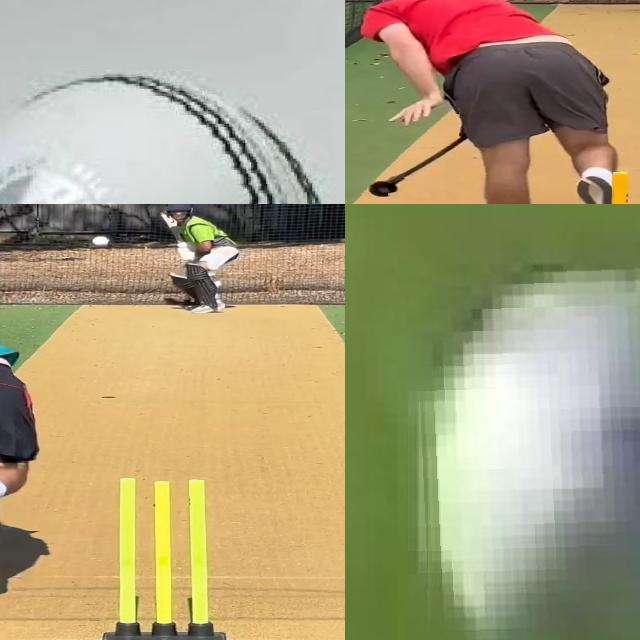Cricket ball: (414, 265, 640, 640), (0, 70, 345, 204), (90, 234, 112, 249)
Stumps: (101, 477, 227, 640)
